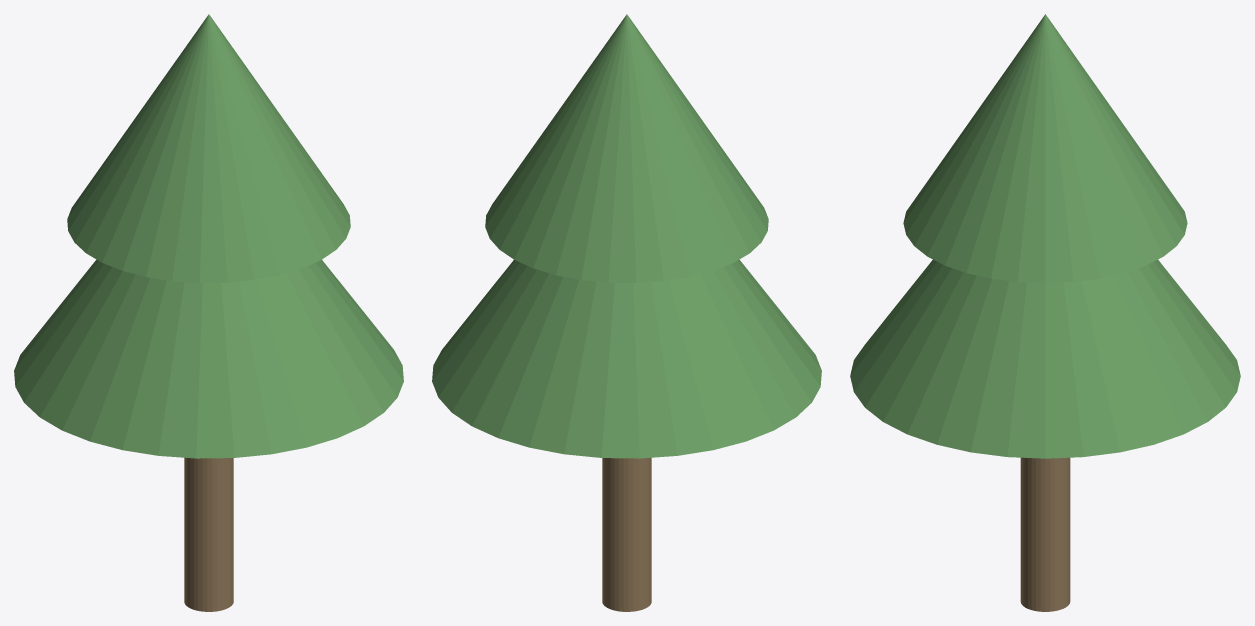
The model's file is tree.glb.
The picture shows the model from 3 angles, left to right: view 1: azimuth 30°, elevation 25°; view 2: azimuth 150°, elevation 25°; view 3: azimuth 270°, elevation 25°; orthographic projection.
Parts seen in each view (by area): view 1: TreeLeavesLow, TreeLeavesTop, TreeTrunk; view 2: TreeLeavesLow, TreeLeavesTop, TreeTrunk; view 3: TreeLeavesLow, TreeLeavesTop, TreeTrunk.
Boxes of the visible parts, x1=… form: TreeLeavesLow: x1=14, y1=259, x2=403, y2=458; TreeLeavesTop: x1=67, y1=14, x2=350, y2=282; TreeTrunk: x1=184, y1=457, x2=233, y2=611; TreeLeavesLow: x1=432, y1=259, x2=821, y2=458; TreeLeavesTop: x1=485, y1=14, x2=768, y2=282; TreeTrunk: x1=602, y1=457, x2=651, y2=611; TreeLeavesLow: x1=850, y1=259, x2=1240, y2=458; TreeLeavesTop: x1=903, y1=14, x2=1187, y2=283; TreeTrunk: x1=1020, y1=457, x2=1070, y2=611.
Bounding box in the file's own units: 2.2 × 3.65 × 2.2.
